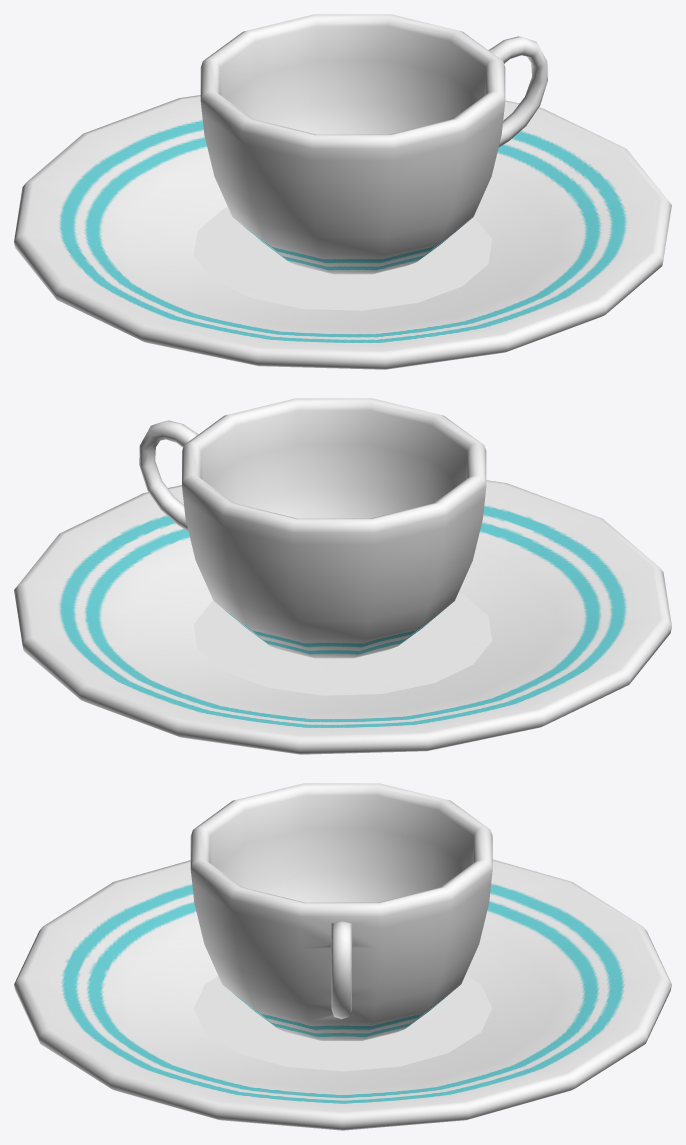
The model's file is Prop_CupAndPlate.fbx.
The picture shows the model from 3 angles, top to bottom: view 1: azimuth 30°, elevation 25°; view 2: azimuth 150°, elevation 25°; view 3: azimuth 270°, elevation 25°; orthographic projection.
Parts seen in each view (by area): view 1: Prop_CupAndPlate; view 2: Prop_CupAndPlate; view 3: Prop_CupAndPlate.
Boxes of the visible parts, x1,y1,x2,y2 form: Prop_CupAndPlate: [14, 14, 671, 369]; Prop_CupAndPlate: [14, 398, 671, 754]; Prop_CupAndPlate: [14, 783, 671, 1130].
Size of the model in its own units: 0.3442 by 0.1078 by 0.3442.
